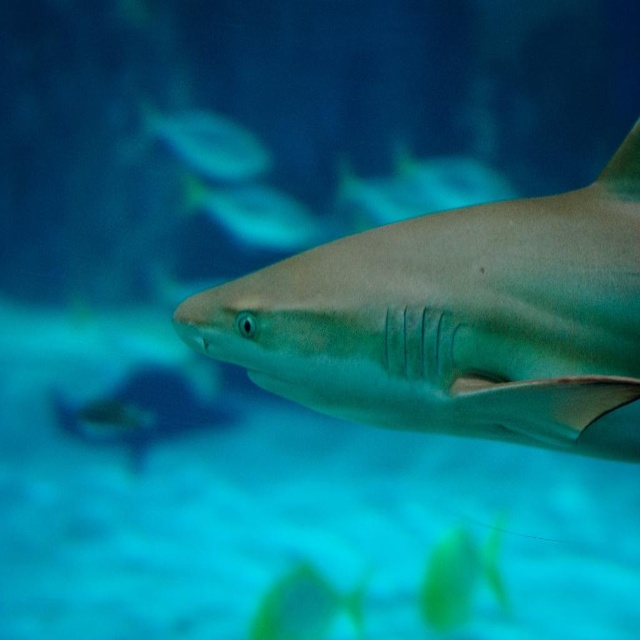Shark: (168, 117, 640, 464)
